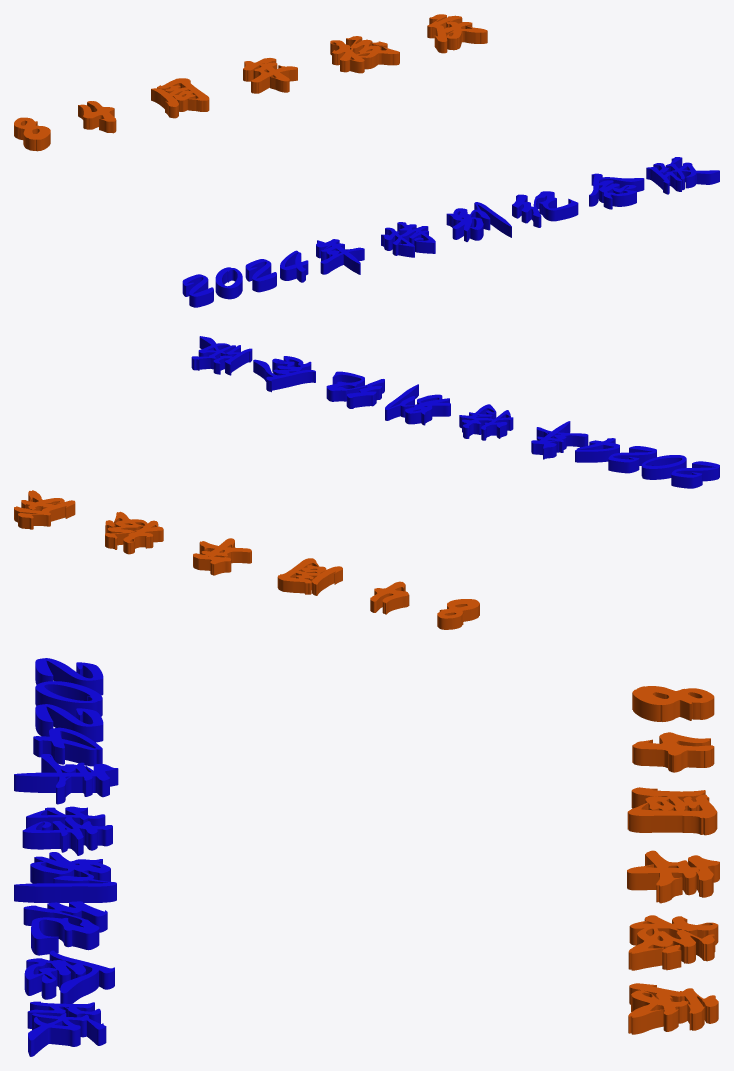
The model's file is vip.glb.
3 renders of one model, top to bottom at view 1: azimuth 30°, elevation 25°; view 2: azimuth 150°, elevation 25°; view 3: azimuth 270°, elevation 25°, orthographic. The views are drawn at different scales.
Parts seen in each view (by area): view 1: Text.001, Text; view 2: Text.001, Text; view 3: Text.001, Text.
Boxes of the visible parts, x1,y1,x2,y2 form: Text.001: [182, 157, 719, 307]; Text: [14, 14, 487, 151]; Text.001: [191, 336, 719, 488]; Text: [14, 490, 479, 629]; Text.001: [14, 658, 118, 1056]; Text: [627, 686, 719, 1034].
Size of the model in its own units: 0.1325 by 0.00274 by 0.1034.
